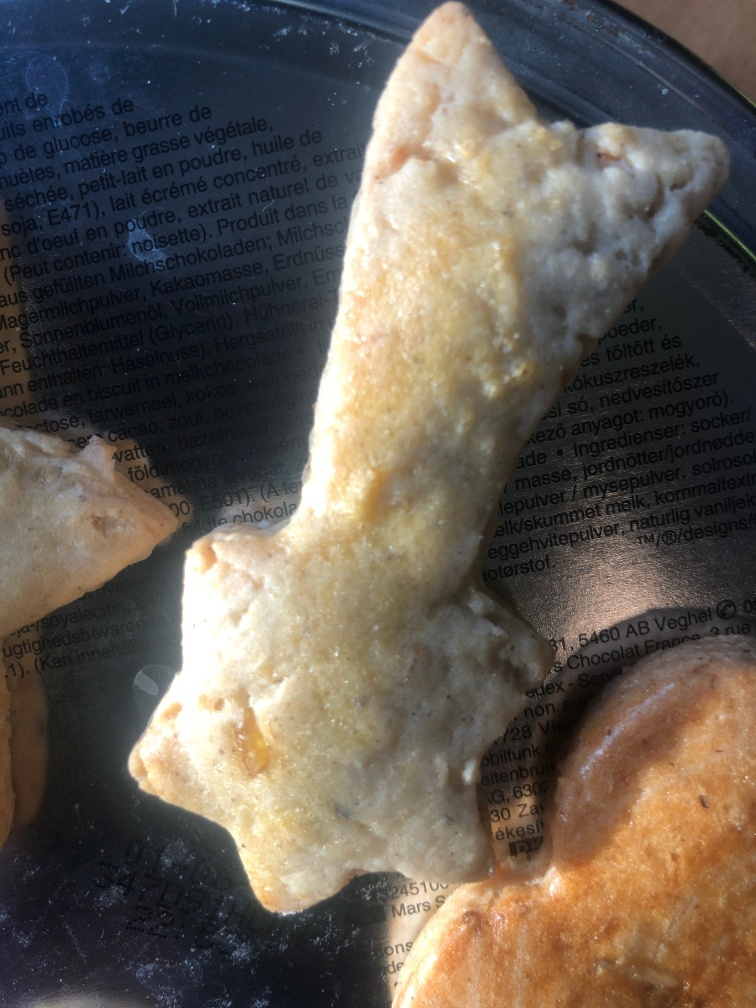shooting star: (120, 2, 720, 934)
